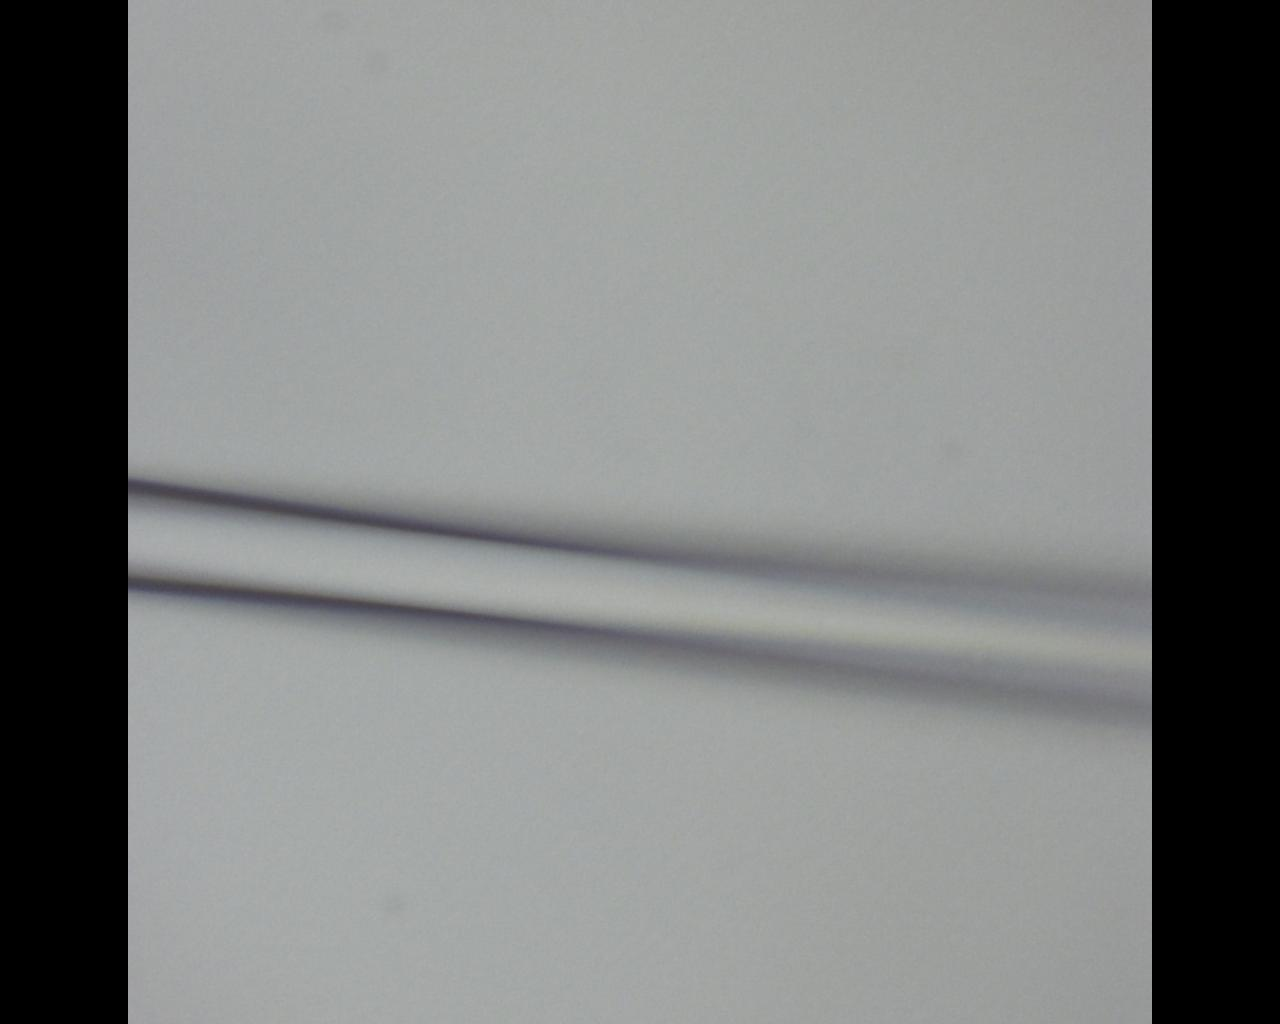fiber: (793, 655, 993, 1024), (739, 0, 793, 655), (564, 655, 614, 1024)
